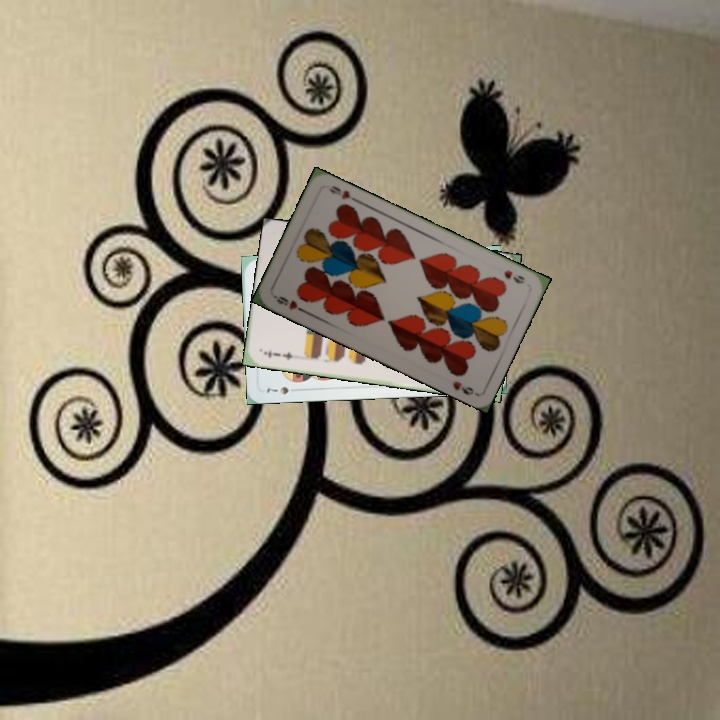E7: (260, 345, 296, 363)
H9: (270, 292, 309, 315), (500, 266, 528, 286)
S7: (262, 382, 302, 397)
